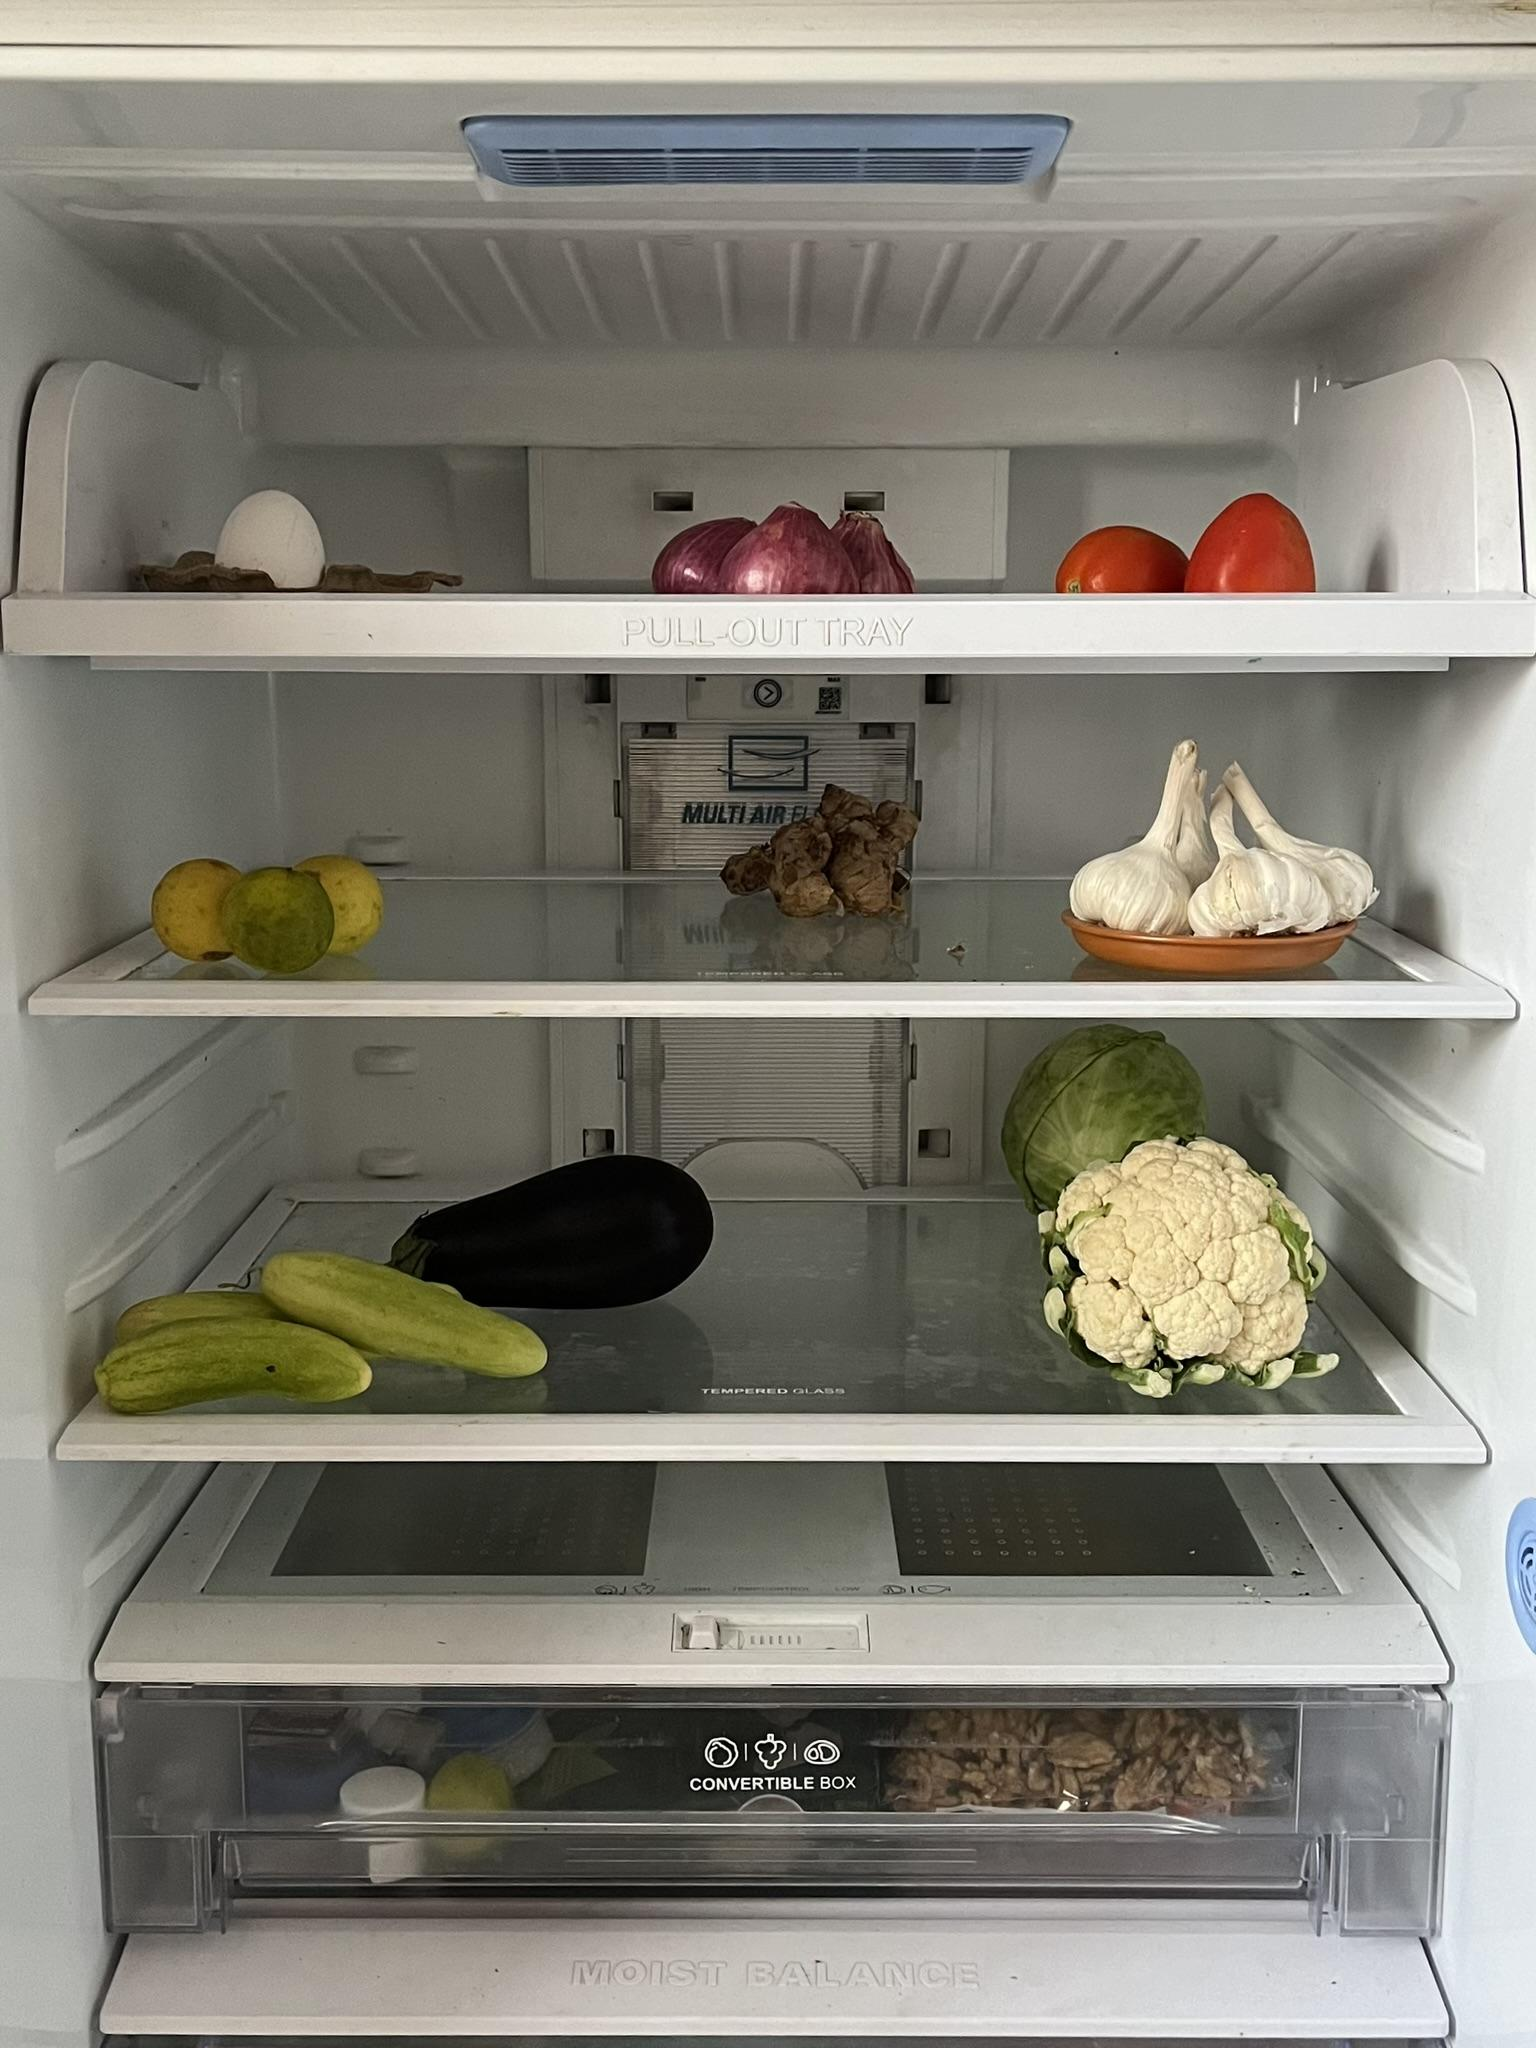bringal: (373, 1159, 713, 1303)
cabbage: (1000, 1021, 1207, 1197)
cauliflower: (1033, 1143, 1329, 1400)
cucumber: (81, 1247, 566, 1406)
egg: (216, 477, 344, 597)
garlic: (1070, 731, 1373, 943)
ginger: (734, 780, 907, 921)
lemon: (150, 850, 394, 963)
onion: (657, 503, 916, 590)
tomato: (1060, 481, 1313, 590)
